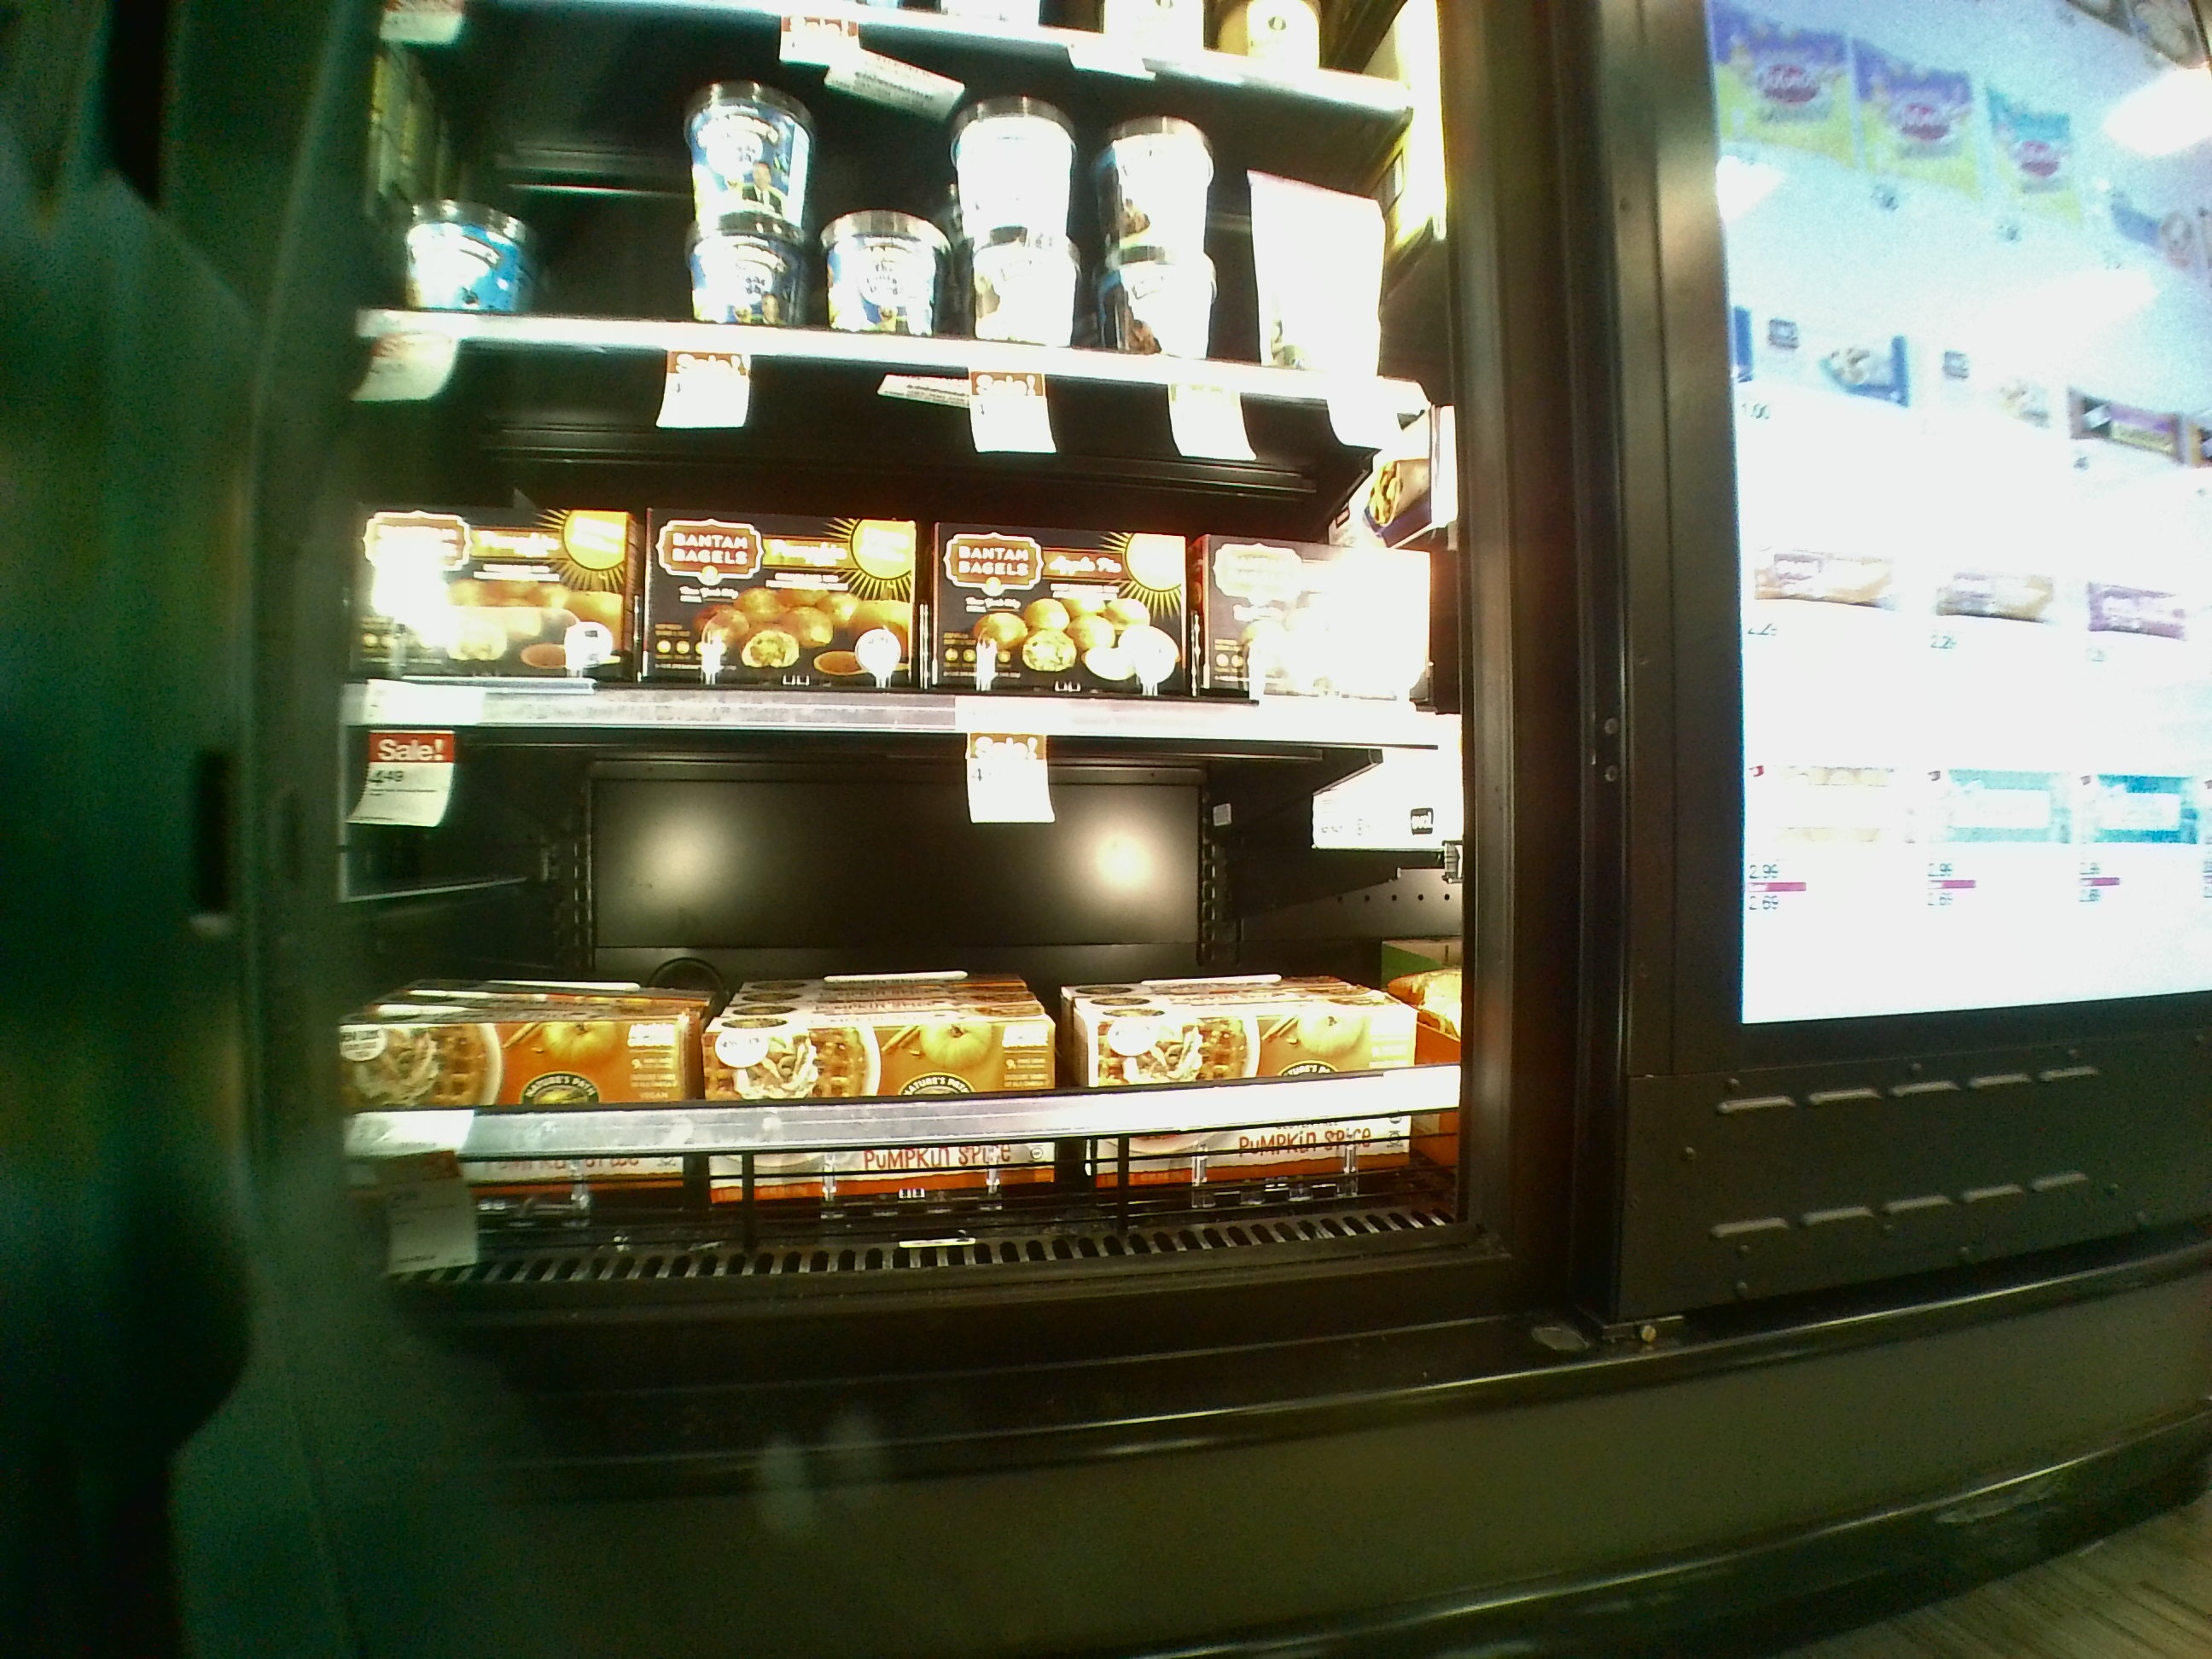shelf: (354, 741, 1484, 1290), (341, 338, 1465, 742)
